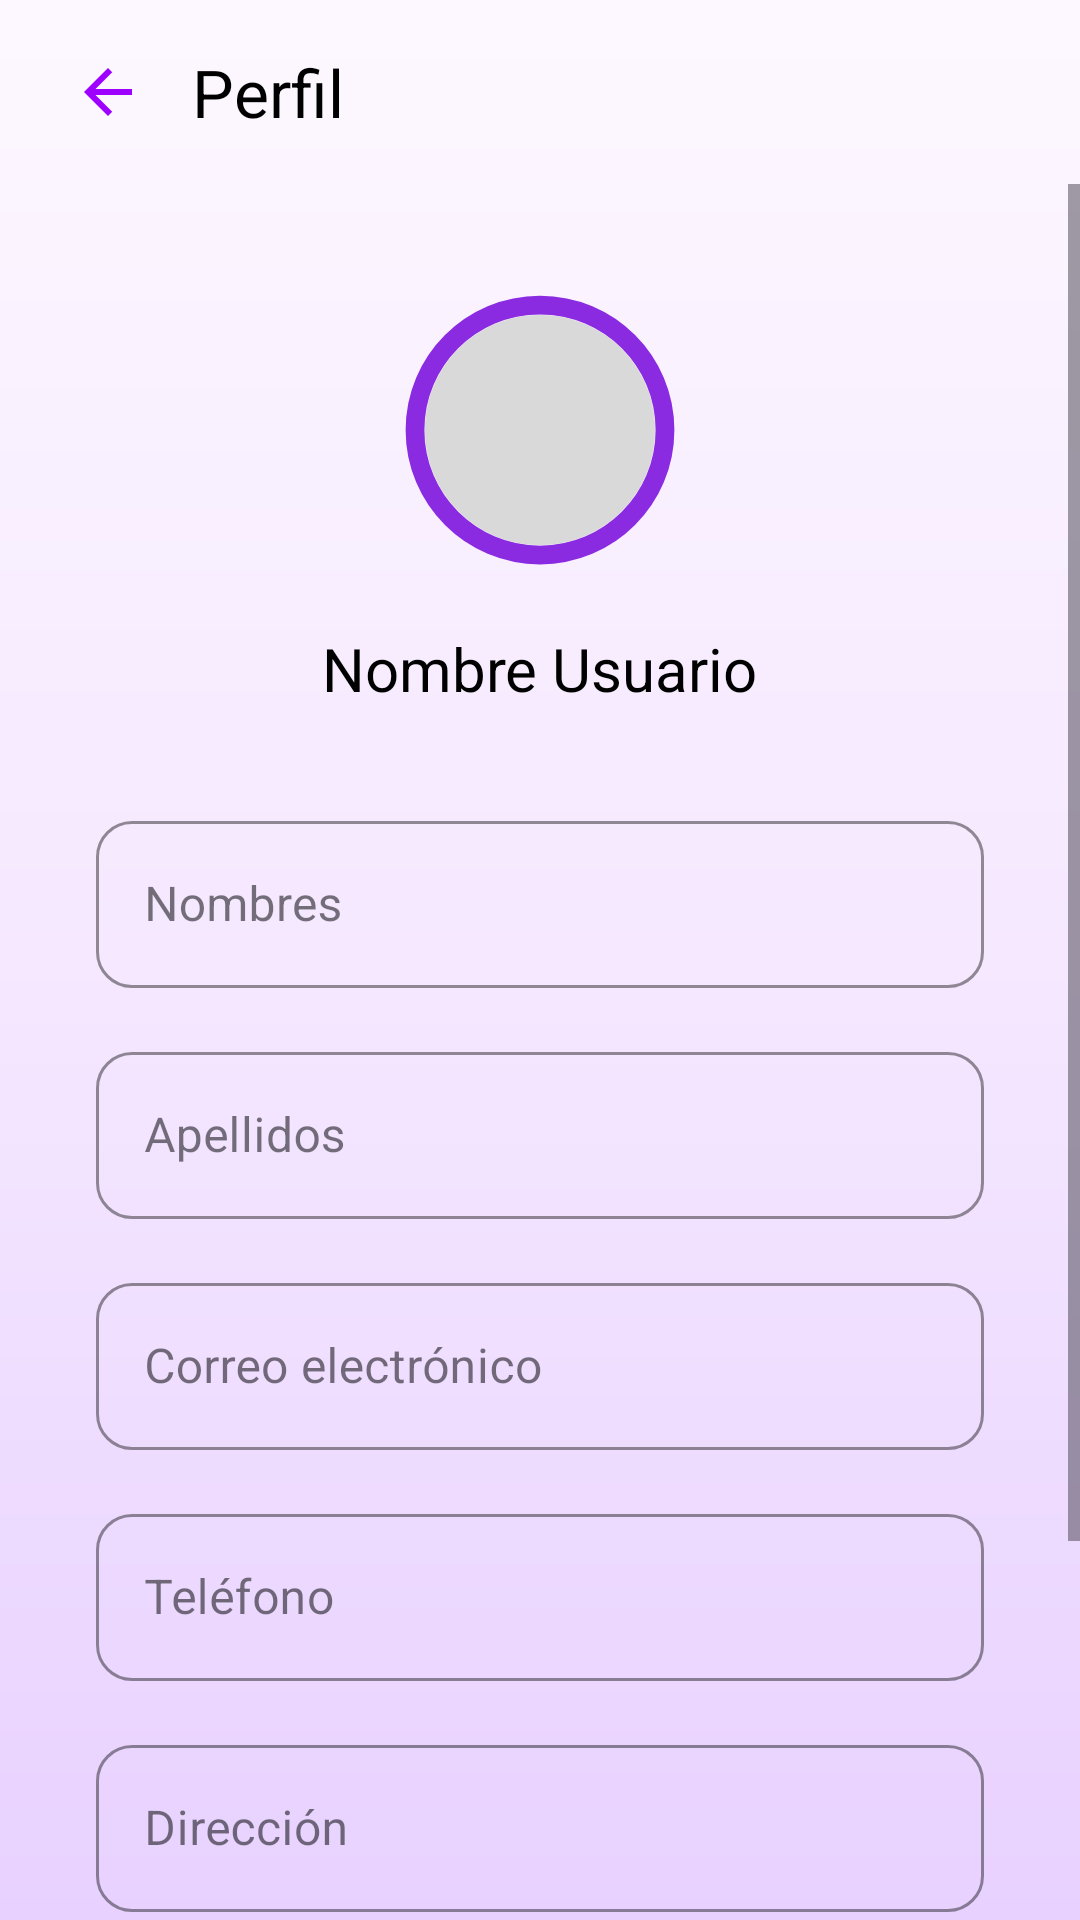

Locate icon controls on the screen. Image size 1080w x 1920h, boxes as detection(x1, y1, x2, y2).
Volver: detection(84, 68, 132, 116)
